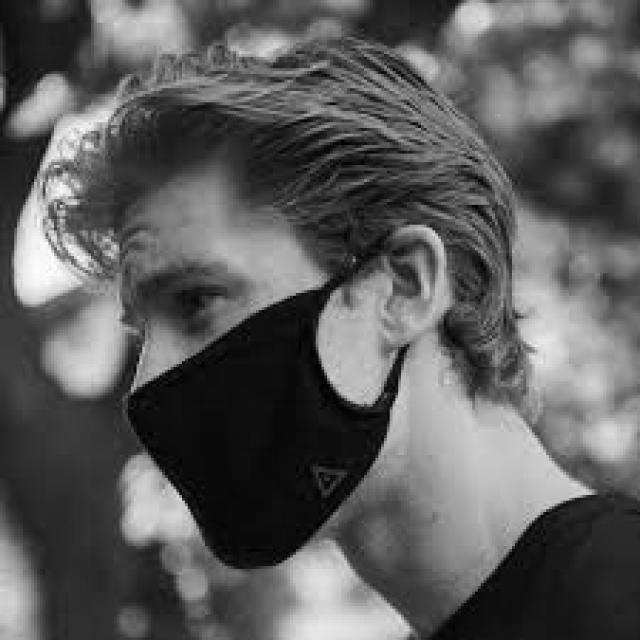fake: (121, 277, 423, 571)
real: (116, 153, 407, 571)
